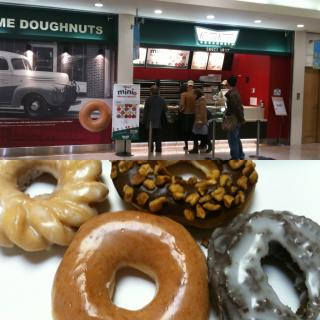Doughnut: (52, 208, 208, 320), (209, 209, 320, 320), (1, 161, 110, 251), (112, 161, 258, 228)
